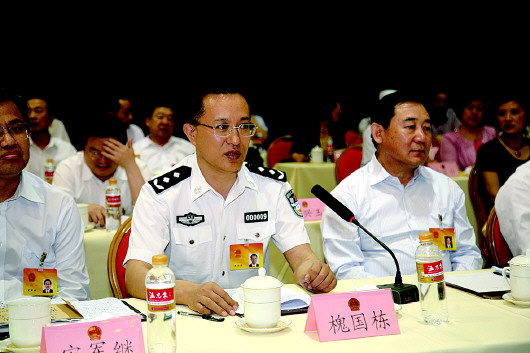other: (124, 82, 350, 321), (319, 74, 486, 294)
